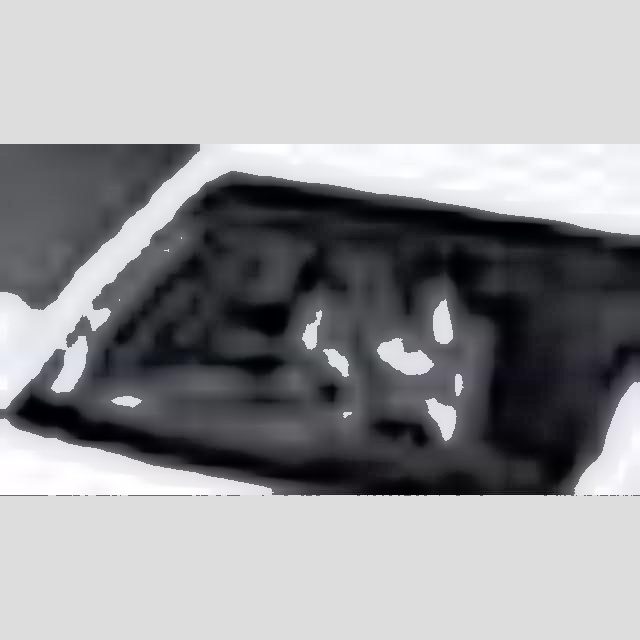pakai: (226, 257, 477, 420)
